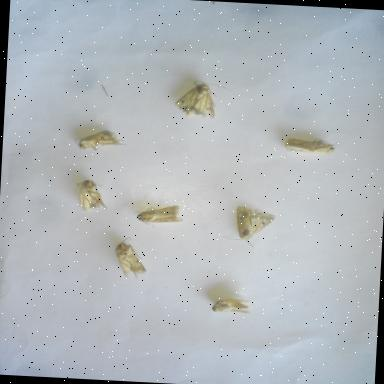abw: (214, 199, 281, 249), (168, 74, 224, 126), (102, 231, 154, 281), (70, 123, 134, 155), (131, 198, 186, 232), (202, 288, 255, 323), (70, 172, 112, 216), (278, 134, 342, 162)
